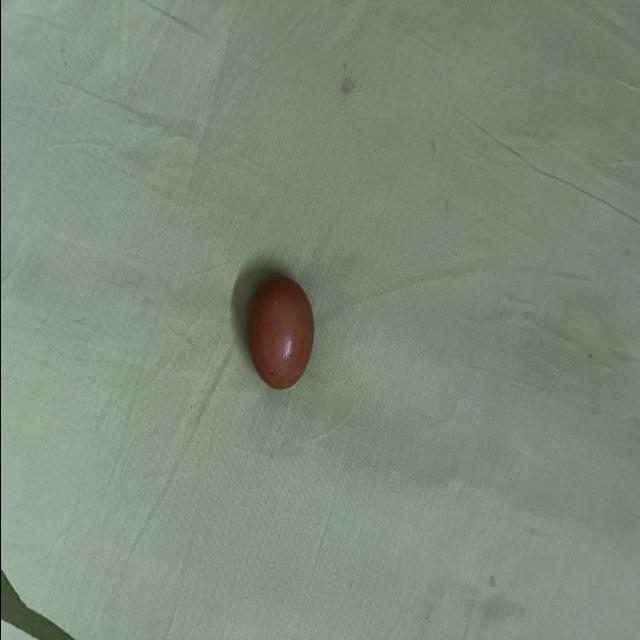egg: (244, 270, 325, 400)
